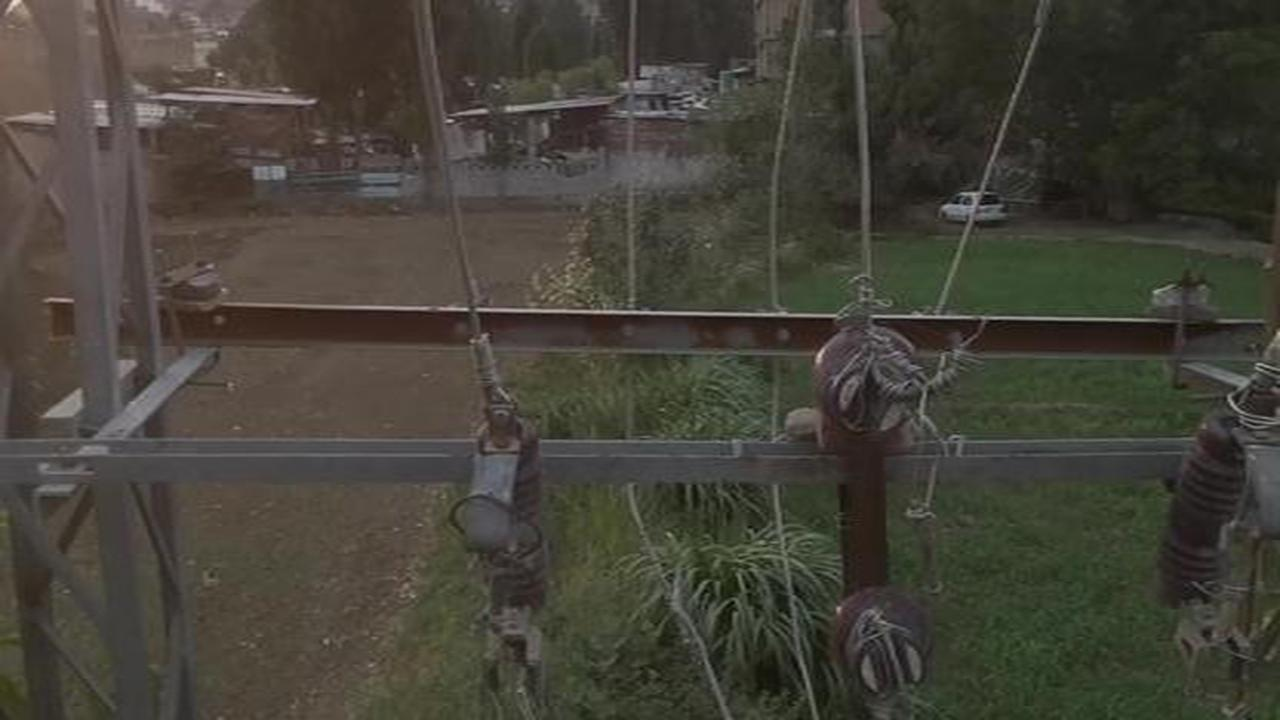insulator_pin: (806, 323, 920, 452), (822, 581, 940, 702)
